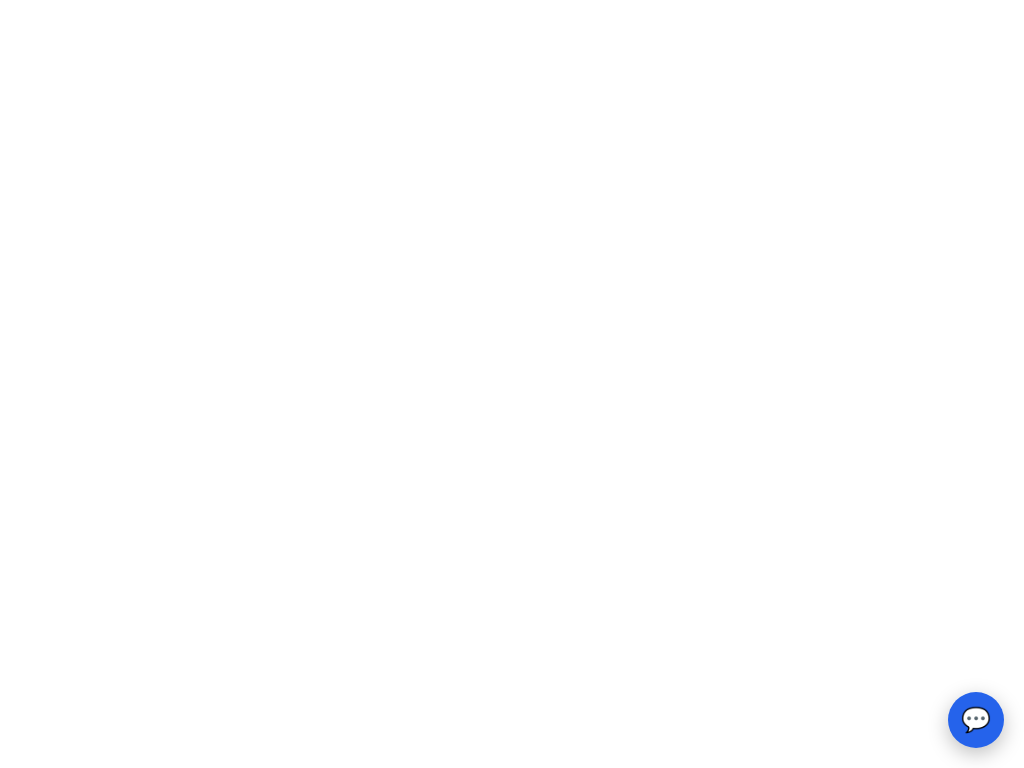
ChatWidget accessibility › closes on Escape and returns focus to the launcher
Click the button named "open support chat" at [976, 720], box left=948, top=692, right=1004, bottom=748
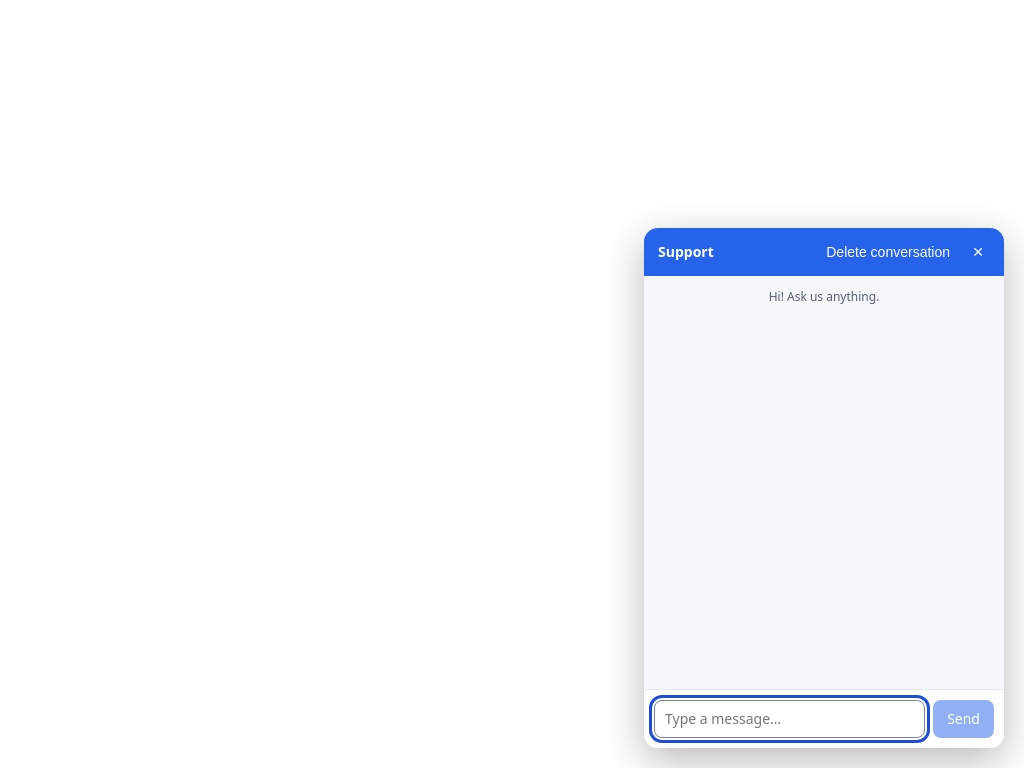
Check: the field labelled "message" is enabled, box left=654, top=700, right=925, bottom=738
Press Escape
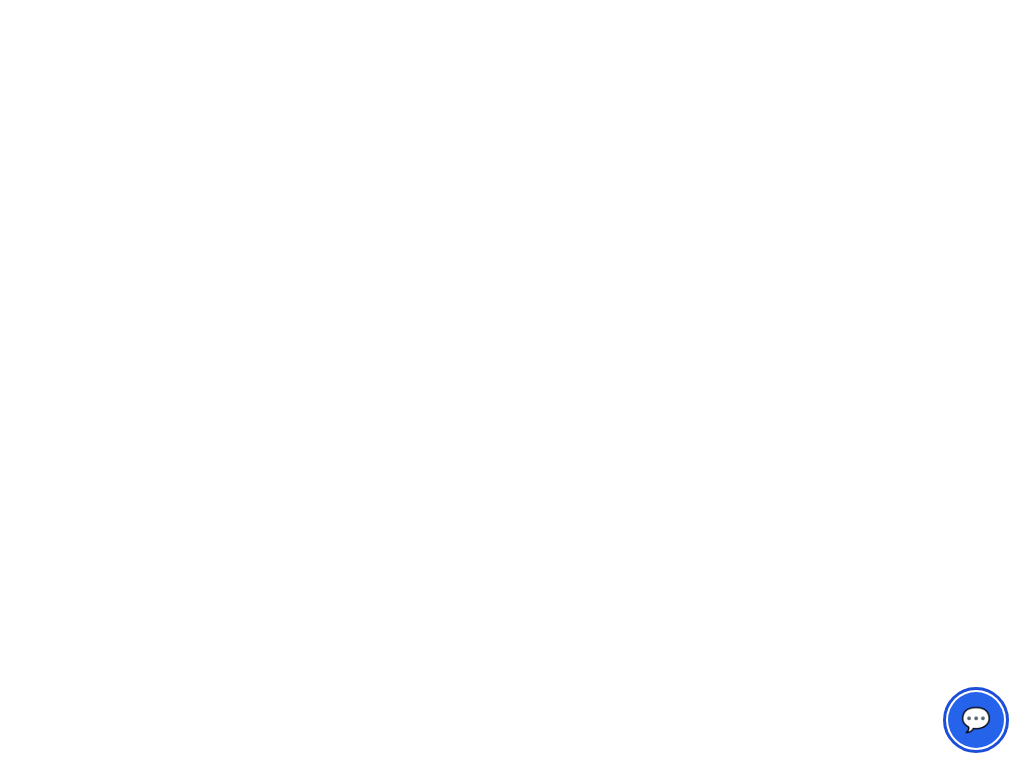
Check: the dialog is gone
